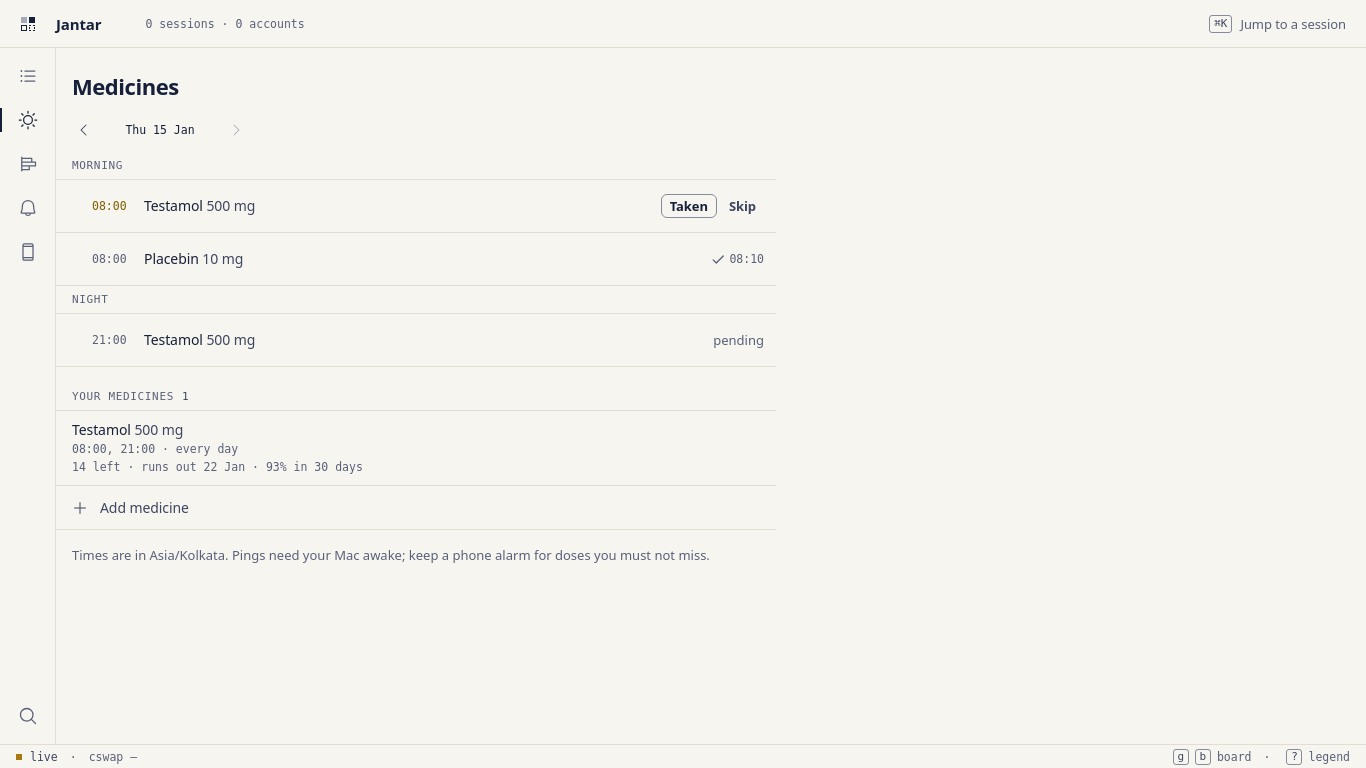
it: MedSheet › a failed save keeps the sheet and its values, with Not saved
Click the button "Add medicine" at (144,507), box [56,486,776,530]
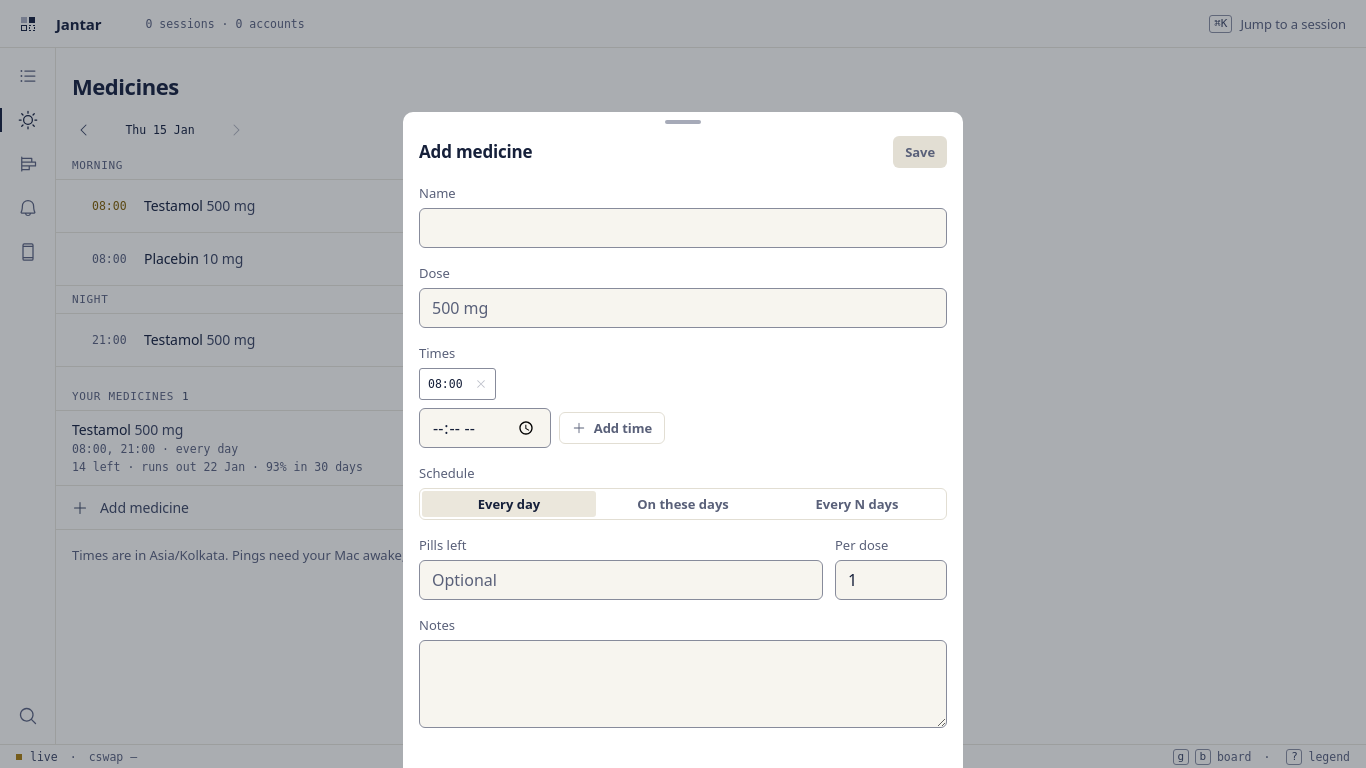
Type "Placebin" into the field labelled "Name" at (683,228), box [419,208,947,248]
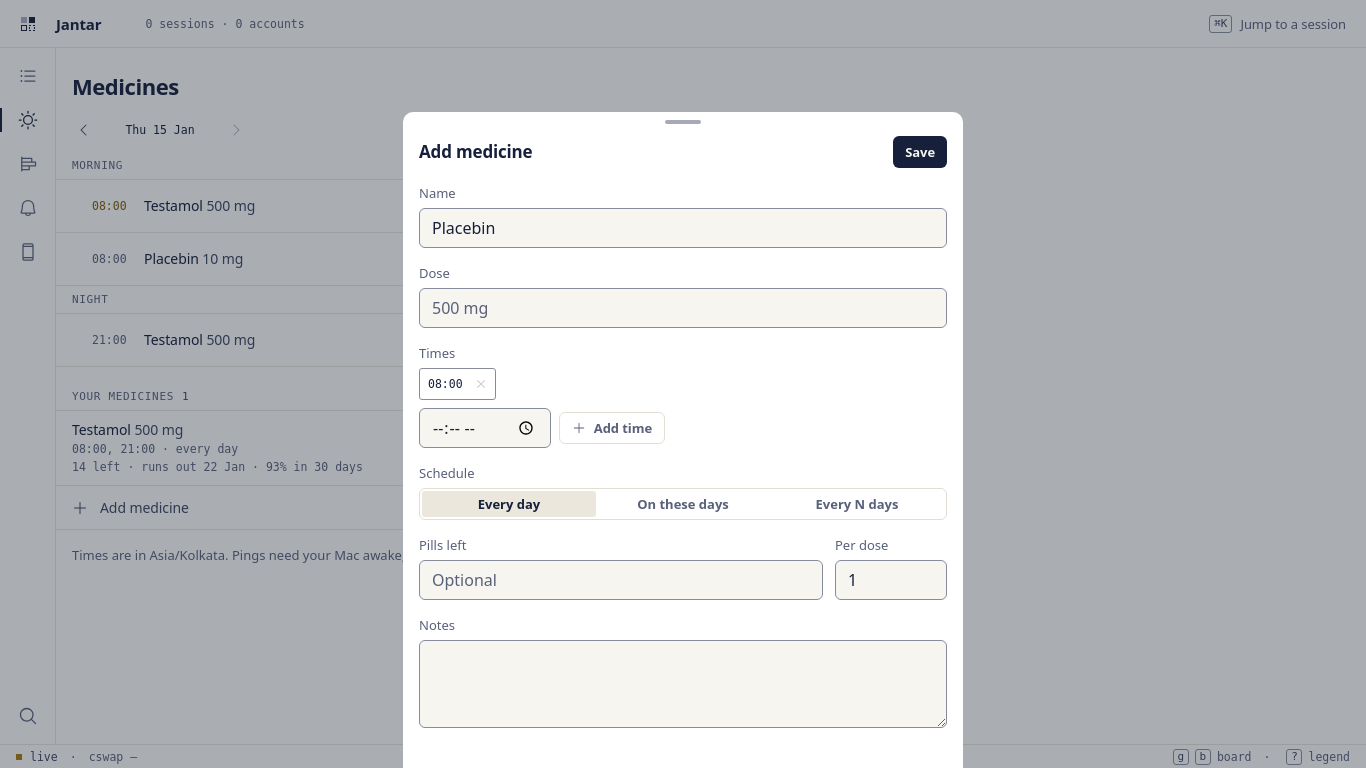
Click the button "Save" at (920,152), box [893,136,947,168]
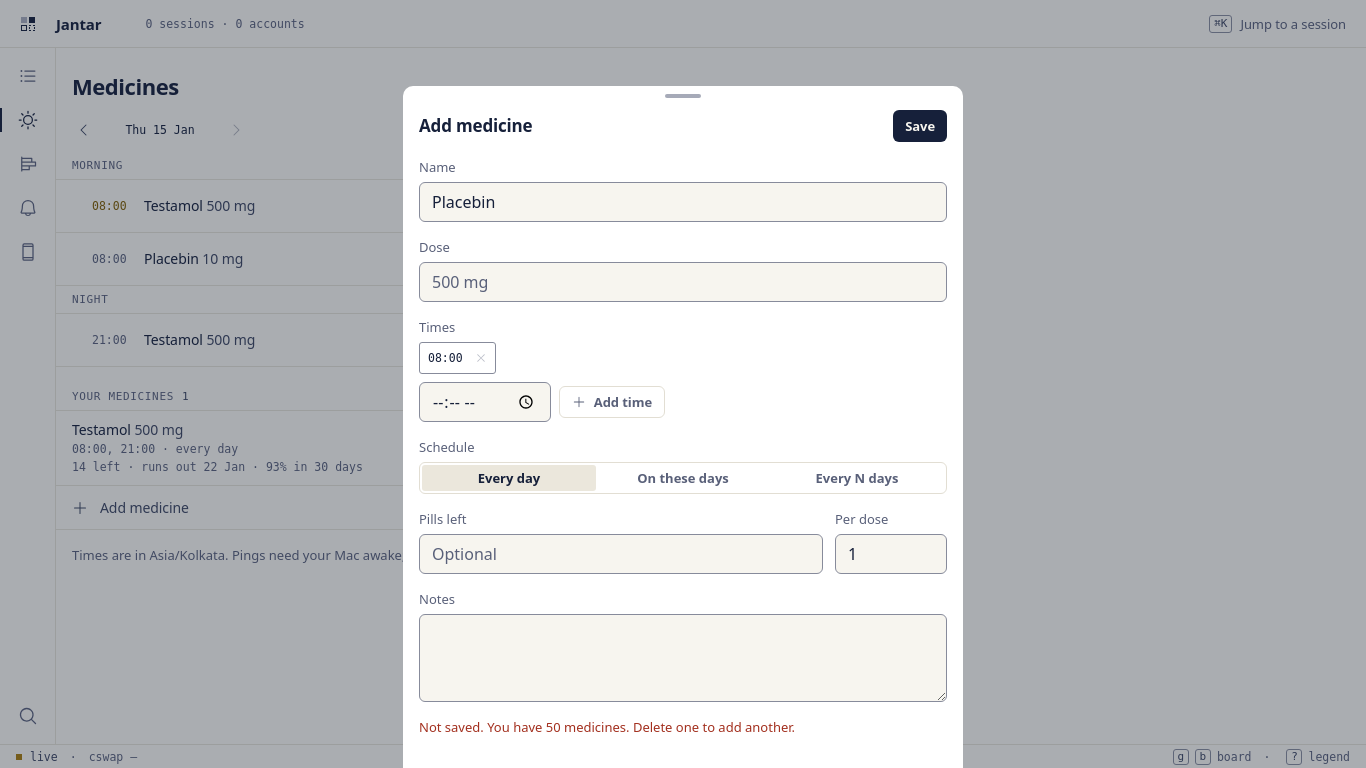
Now the message reads "Not saved. You have 50 medicines. Delete one to add another.", box [419,718,795,736]
